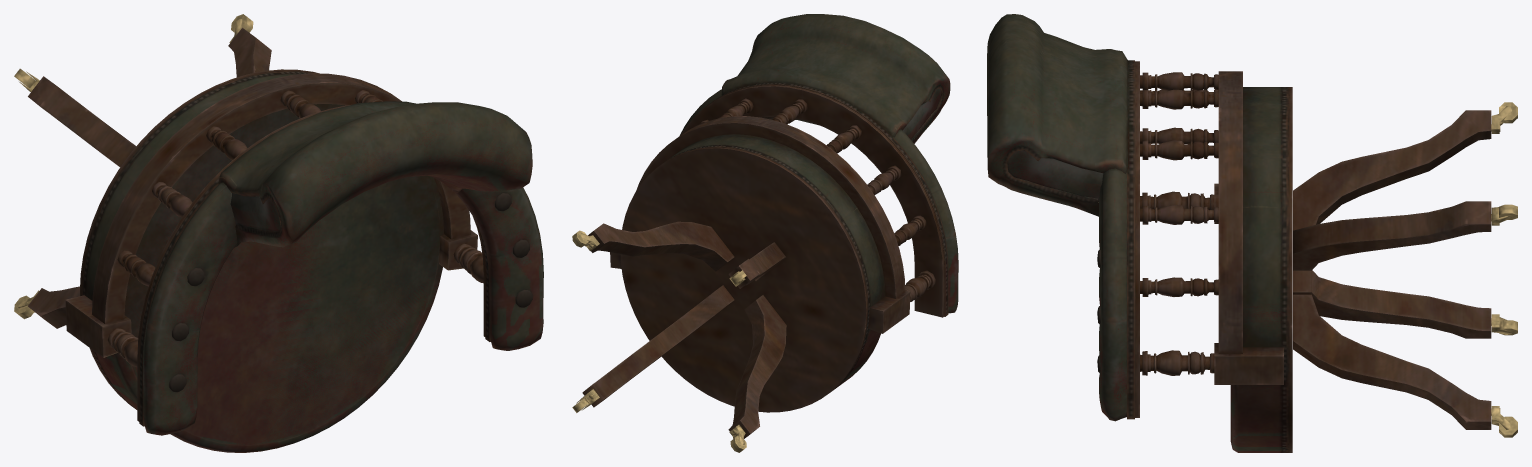
File: victorian-chairs-a12b3c.glb
3 renders of one model, left to right at view 1: azimuth 30°, elevation 25°; view 2: azimuth 150°, elevation 25°; view 3: azimuth 270°, elevation 25°, orthographic. The views are drawn at different scales.
Parts seen in each view (by area): view 1: PropMesh; view 2: PropMesh; view 3: PropMesh.
Part boxes in pixels (left/top/right/bottom): PropMesh: left=14, top=14, right=543, bottom=452; PropMesh: left=572, top=14, right=958, bottom=452; PropMesh: left=987, top=14, right=1517, bottom=452.
Bounding box in the file's own units: 0.6951 × 0.7093 × 0.8536.
Materials: 2 (2 with a texture image).
